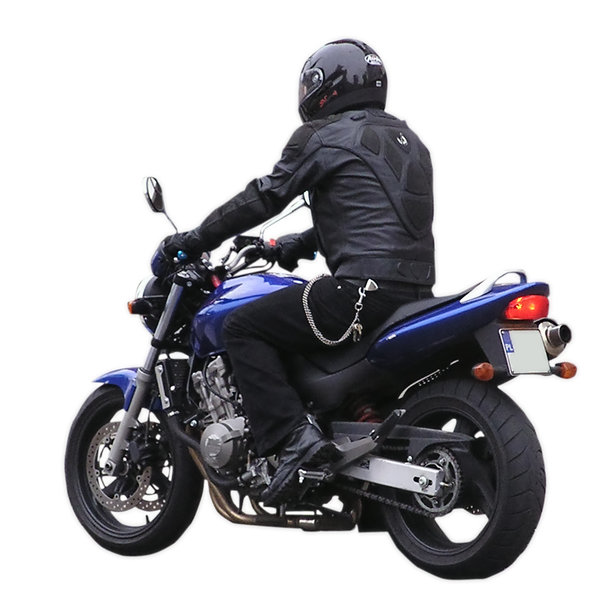helmet: (114, 27, 473, 429)
